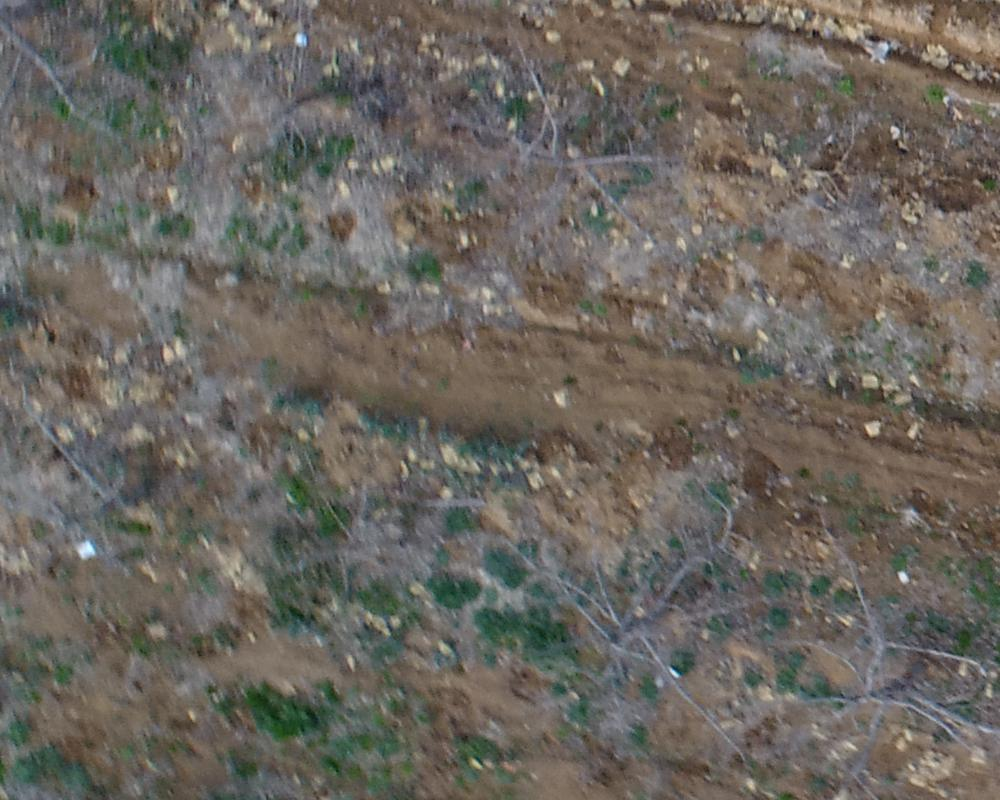apple: (517, 490, 796, 748), (789, 510, 990, 790), (428, 28, 689, 238), (267, 443, 466, 597), (198, 44, 360, 159)
